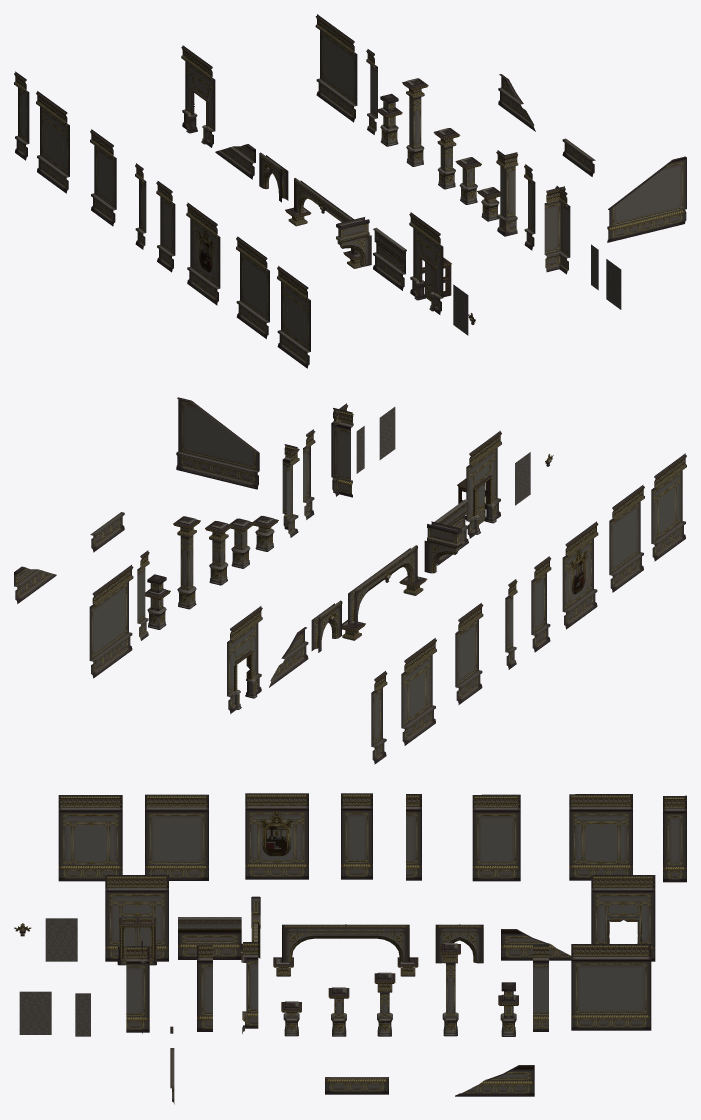
The model's file is EnvMdrMD_Mansion_C_Wall_2F_Deco.FBX.
3 views of the same model, one above another, from view 1: azimuth 30°, elevation 25°; view 2: azimuth 150°, elevation 25°; view 3: azimuth 270°, elevation 25° (orthographic). The views are drawn at different scales.
Parts seen in each view (by area): view 1: EnvMdrMD_Mansion_C_Wall_StairsSide_A_600W500H_L, EnvMdrMD_Mansion_C_Wall_A_1F_500W, EnvMdrMD_Mansion_C_Wall_Door_B, EnvMdrMD_Mansion_C_Wall_Deco_Mirror, EnvMdrMD_Mansion_C_Wall_Deco_400, EnvMdrMD_Mansion_C_Wall_A_1F_400W, EnvMdrMD_Mansion_C_Wall_A_1F_400W_Deco, EnvMdrMD_Mansion_C_Wall_Door_A, EnvMdrMD_Mansion_C_Wall_CoIn_LB, EnvMdrMD_Mansion_C_Wall_A_1F_300W, EnvMdrMD_Mansion_C_Wall_Arch_A_800W, EnvMdrMD_Mansion_C_Wall_CoOut_RF (+18 smaller); view 2: EnvMdrMD_Mansion_C_Wall_StairsSide_A_600W500H_L, EnvMdrMD_Mansion_C_Wall_A_1F_500W, EnvMdrMD_Mansion_C_Wall_Door_B, EnvMdrMD_Mansion_C_Wall_Deco_Mirror, EnvMdrMD_Mansion_C_Wall_Deco_400, EnvMdrMD_Mansion_C_Wall_A_1F_400W, EnvMdrMD_Mansion_C_Wall_A_1F_400W_Deco, EnvMdrMD_Mansion_C_Wall_Door_A, EnvMdrMD_Mansion_C_Wall_A_1F_300W, EnvMdrMD_Mansion_C_Wall_Arch_A_800W, EnvMdrMD_Mansion_C_Wall_CoIn_LB, EnvMdrMD_Mansion_C_Wall_Point (+18 smaller); view 3: EnvMdrMD_Mansion_C_Wall_A_1F_500W, EnvMdrMD_Mansion_C_Wall_Deco_Mirror, EnvMdrMD_Mansion_C_Wall_A_1F_400W_Deco, EnvMdrMD_Mansion_C_Wall_A_1F_400W, EnvMdrMD_Mansion_C_Wall_Deco_400, EnvMdrMD_Mansion_C_Wall_Door_B, EnvMdrMD_Mansion_C_Wall_A_1F_300W, EnvMdrMD_Mansion_C_Wall_Door_A, EnvMdrMD_Mansion_C_Wall_Arch_A_800W, EnvMdrMD_Mansion_C_Wall_A_1F_200W, EnvMdrMD_Mansion_C_Wall_StairsSide_A_200H, EnvMdrMD_Mansion_C_Wall_CoIn_LB (+18 smaller).
Part boxes in pixels (left/top/right/bottom): EnvMdrMD_Mansion_C_Wall_StairsSide_A_600W500H_L: left=607, top=156, right=686, bottom=242; EnvMdrMD_Mansion_C_Wall_A_1F_500W: left=315, top=14, right=357, bottom=122; EnvMdrMD_Mansion_C_Wall_Door_B: left=409, top=212, right=451, bottom=314; EnvMdrMD_Mansion_C_Wall_Deco_Mirror: left=186, top=202, right=220, bottom=305; EnvMdrMD_Mansion_C_Wall_Deco_400: left=36, top=91, right=69, bottom=193; EnvMdrMD_Mansion_C_Wall_A_1F_400W: left=236, top=236, right=269, bottom=338; EnvMdrMD_Mansion_C_Wall_A_1F_400W_Deco: left=277, top=266, right=310, bottom=368; EnvMdrMD_Mansion_C_Wall_Door_A: left=181, top=45, right=215, bottom=147; EnvMdrMD_Mansion_C_Wall_CoIn_LB: left=544, top=186, right=570, bottom=274; EnvMdrMD_Mansion_C_Wall_A_1F_300W: left=90, top=129, right=116, bottom=226; EnvMdrMD_Mansion_C_Wall_Arch_A_800W: left=285, top=178, right=364, bottom=268; EnvMdrMD_Mansion_C_Wall_CoOut_RF: left=496, top=150, right=518, bottom=236; EnvMdrMD_Mansion_C_Wall_StairsSide_A_600W500H_L: left=176, top=397, right=259, bottom=489; EnvMdrMD_Mansion_C_Wall_A_1F_500W: left=89, top=565, right=133, bottom=678; EnvMdrMD_Mansion_C_Wall_Door_B: left=457, top=430, right=501, bottom=538; EnvMdrMD_Mansion_C_Wall_Deco_Mirror: left=562, top=521, right=598, bottom=629; EnvMdrMD_Mansion_C_Wall_Deco_400: left=401, top=638, right=436, bottom=745; EnvMdrMD_Mansion_C_Wall_A_1F_400W: left=609, top=485, right=644, bottom=592; EnvMdrMD_Mansion_C_Wall_A_1F_400W_Deco: left=651, top=453, right=686, bottom=561; EnvMdrMD_Mansion_C_Wall_Door_A: left=227, top=606, right=262, bottom=713; EnvMdrMD_Mansion_C_Wall_A_1F_300W: left=455, top=603, right=483, bottom=704; EnvMdrMD_Mansion_C_Wall_Arch_A_800W: left=342, top=545, right=427, bottom=640; EnvMdrMD_Mansion_C_Wall_CoIn_LB: left=331, top=403, right=353, bottom=497; EnvMdrMD_Mansion_C_Wall_Point: left=173, top=516, right=200, bottom=609; EnvMdrMD_Mansion_C_Wall_A_1F_500W: left=571, top=944, right=651, bottom=1030; EnvMdrMD_Mansion_C_Wall_Deco_Mirror: left=245, top=793, right=308, bottom=879; EnvMdrMD_Mansion_C_Wall_A_1F_400W_Deco: left=58, top=795, right=122, bottom=881; EnvMdrMD_Mansion_C_Wall_A_1F_400W: left=145, top=794, right=208, bottom=880; EnvMdrMD_Mansion_C_Wall_Deco_400: left=569, top=794, right=632, bottom=880; EnvMdrMD_Mansion_C_Wall_Door_B: left=105, top=875, right=168, bottom=965; EnvMdrMD_Mansion_C_Wall_A_1F_300W: left=472, top=794, right=520, bottom=881; EnvMdrMD_Mansion_C_Wall_Door_A: left=591, top=875, right=655, bottom=961; EnvMdrMD_Mansion_C_Wall_Arch_A_800W: left=273, top=924, right=418, bottom=976; EnvMdrMD_Mansion_C_Wall_A_1F_200W: left=341, top=793, right=372, bottom=879; EnvMdrMD_Mansion_C_Wall_StairsSide_A_200H: left=178, top=917, right=241, bottom=959; EnvMdrMD_Mansion_C_Wall_CoIn_LB: left=126, top=941, right=149, bottom=1033.
Size of the model in its own units: 3362 by 685 by 4220.
1 material, 1 textured.
